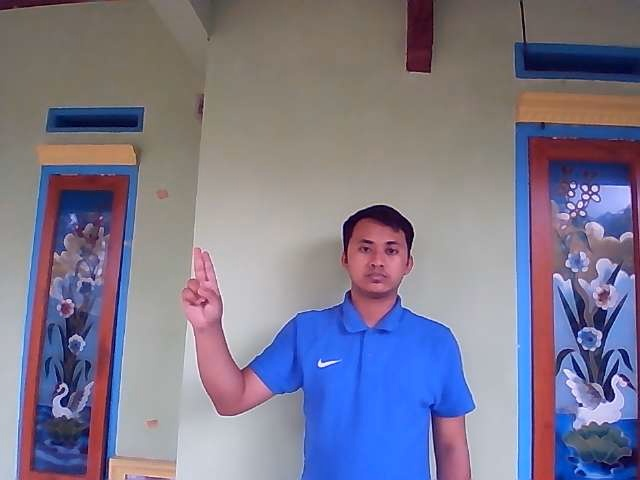U: (180, 246, 226, 328)
